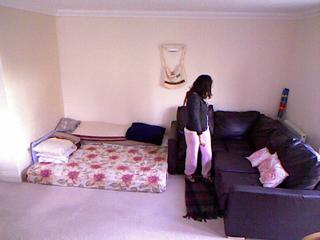FallenBody: (178, 71, 217, 188)
